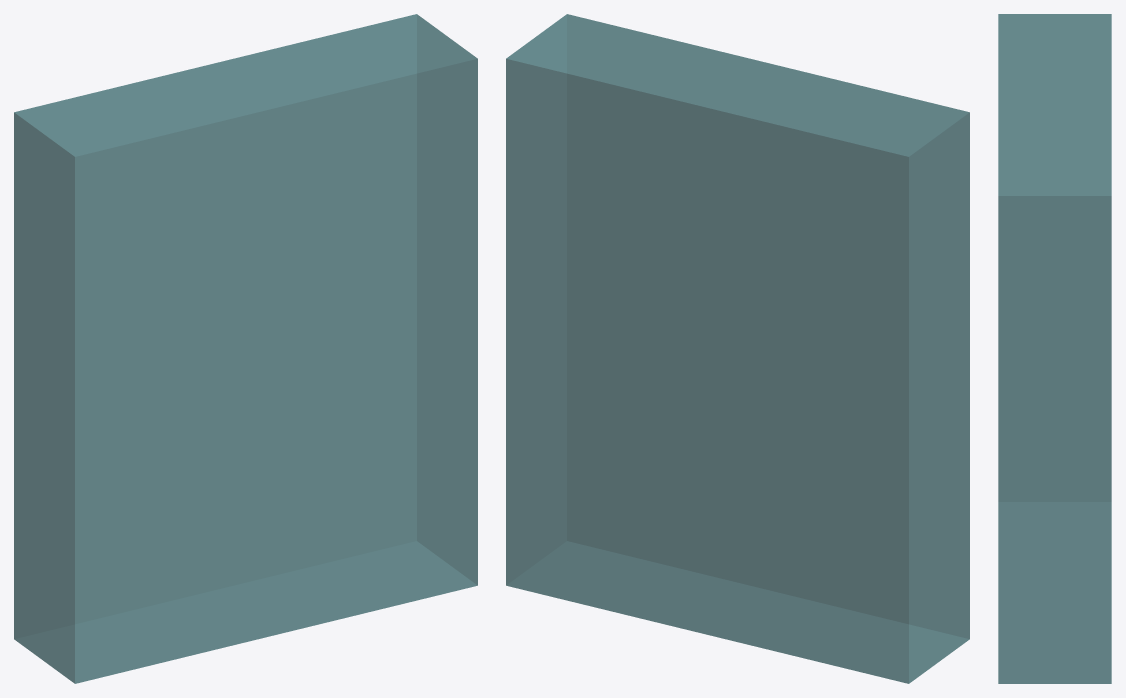
3 renders of one model, left to right at view 1: azimuth 30°, elevation 25°; view 2: azimuth 150°, elevation 25°; view 3: azimuth 270°, elevation 25°, orthographic. The views are drawn at different scales.
Parts seen in each view (by area): view 1: A-FF-4BC; view 2: A-FF-4BC; view 3: A-FF-4BC.
Boxes of the visible parts, x1,y1,x2,y2 form: A-FF-4BC: (14,14,477,683); A-FF-4BC: (506,14,969,683); A-FF-4BC: (998,14,1111,683).
Size of the model in its own units: 0.8 by 1 by 0.21.
